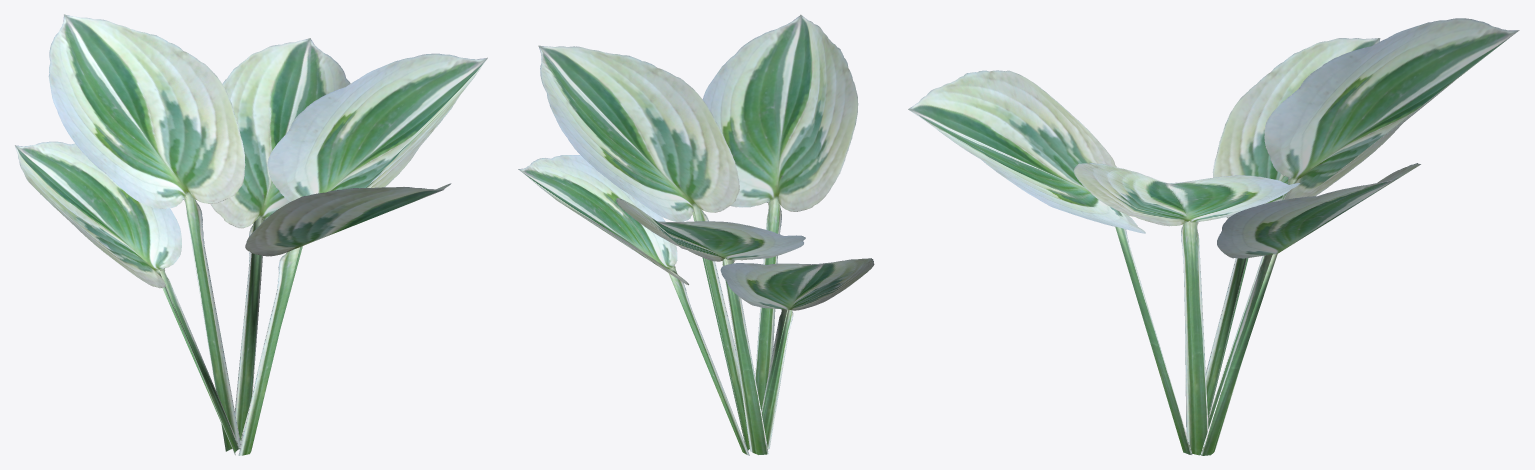
File: plant_small_wg_01B.fbx
3 views of the same model, side by side, from view 1: azimuth 30°, elevation 25°; view 2: azimuth 150°, elevation 25°; view 3: azimuth 270°, elevation 25° (orthographic). The views are drawn at different scales.
Visible parts, largest first — view 1: plant_small_wg_01B; view 2: plant_small_wg_01B; view 3: plant_small_wg_01B.
Boxes of the visible parts, x1,y1,x2,y2 form: plant_small_wg_01B: (15, 14, 487, 455); plant_small_wg_01B: (518, 14, 874, 455); plant_small_wg_01B: (908, 18, 1519, 455).
Bounding box in the file's own units: 60.53 × 49.81 × 69.06.
